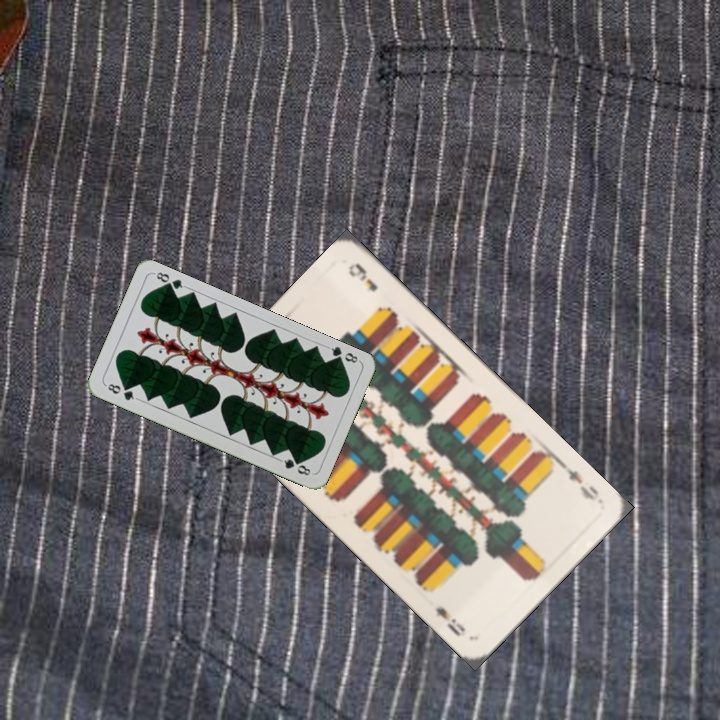E9: (556, 459, 604, 505)
G8: (323, 342, 362, 367), (102, 379, 140, 403)
